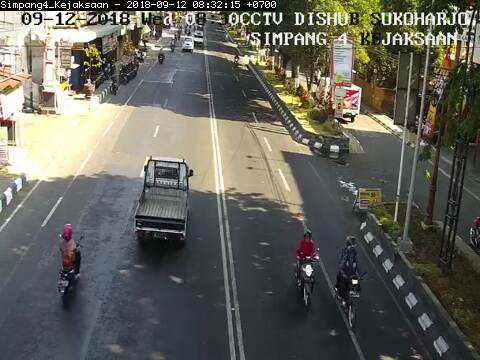motor: (333, 233, 366, 328), (294, 227, 321, 307)
